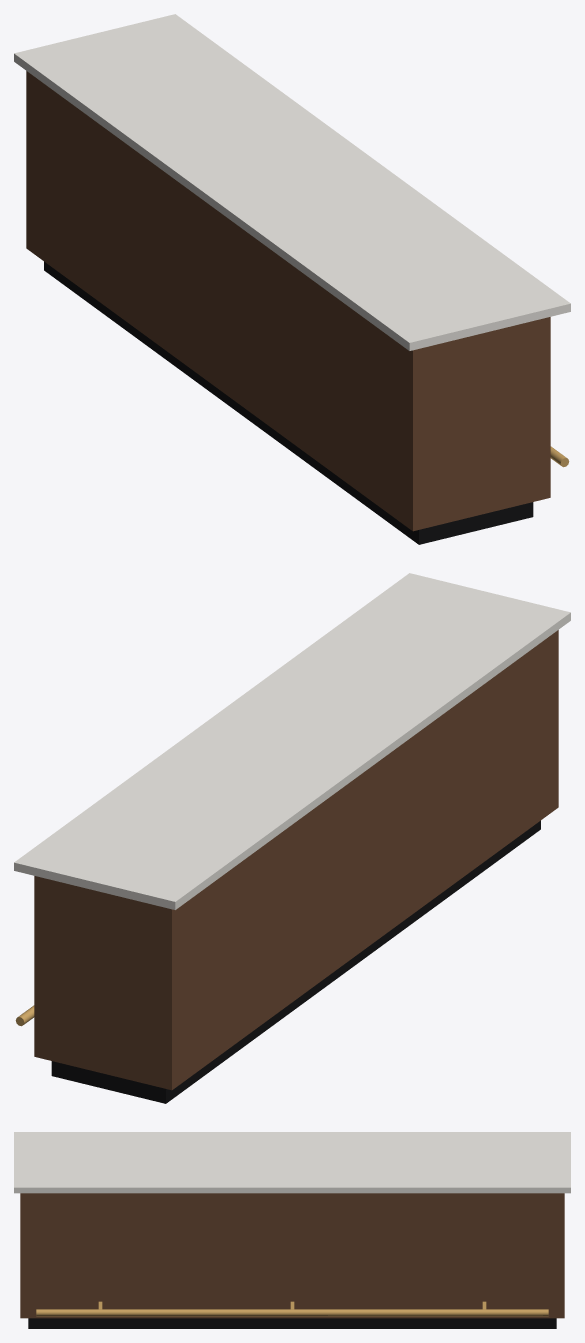
File: cafe_counter.glb
3 renders of one model, top to bottom at view 1: azimuth 30°, elevation 25°; view 2: azimuth 150°, elevation 25°; view 3: azimuth 270°, elevation 25°, orthographic. The views are drawn at different scales.
Visible parts, largest first — view 1: Front_LOD0, Top_LOD0, Kick_LOD0; view 2: Front_LOD0, Top_LOD0, Kick_LOD0; view 3: Front_LOD0, Top_LOD0, Kick_LOD0, Rail_LOD0.
Boxes of the visible parts, x1=… form: Front_LOD0: x1=26, y1=71, x2=550, y2=531; Top_LOD0: x1=14, y1=14, x2=570, y2=350; Kick_LOD0: x1=44, y1=261, x2=533, y2=544; Front_LOD0: x1=34, y1=630, x2=558, y2=1090; Top_LOD0: x1=14, y1=573, x2=570, y2=909; Kick_LOD0: x1=51, y1=820, x2=540, y2=1103; Front_LOD0: x1=20, y1=1193, x2=564, y2=1318; Top_LOD0: x1=14, y1=1132, x2=570, y2=1193; Kick_LOD0: x1=28, y1=1318, x2=556, y2=1328; Rail_LOD0: x1=36, y1=1309, x2=548, y2=1316.
Bounding box in the file's own units: 0.892 × 1.04 × 3.48.
